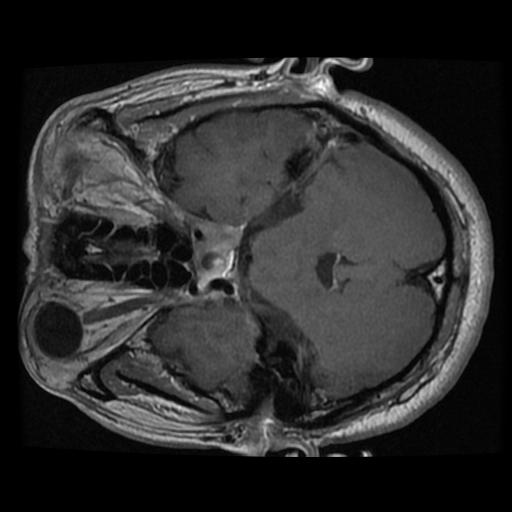pituitary tumour: (193, 223, 239, 284)
